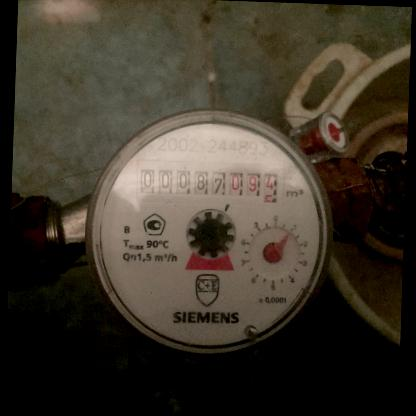digital_screen: (133, 158, 231, 208)
